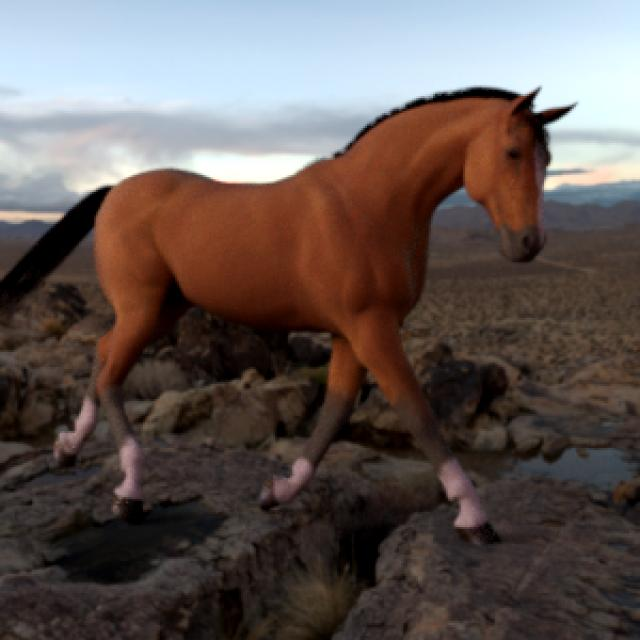horse: (0, 88, 573, 543)
